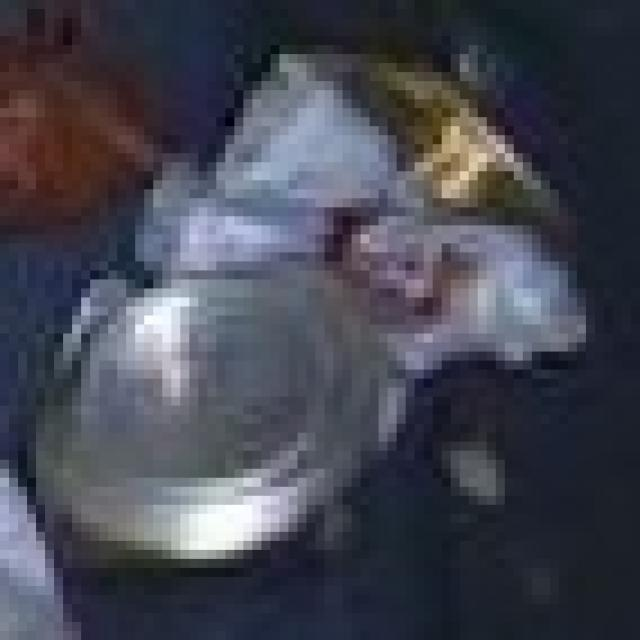can: (0, 33, 612, 628)
